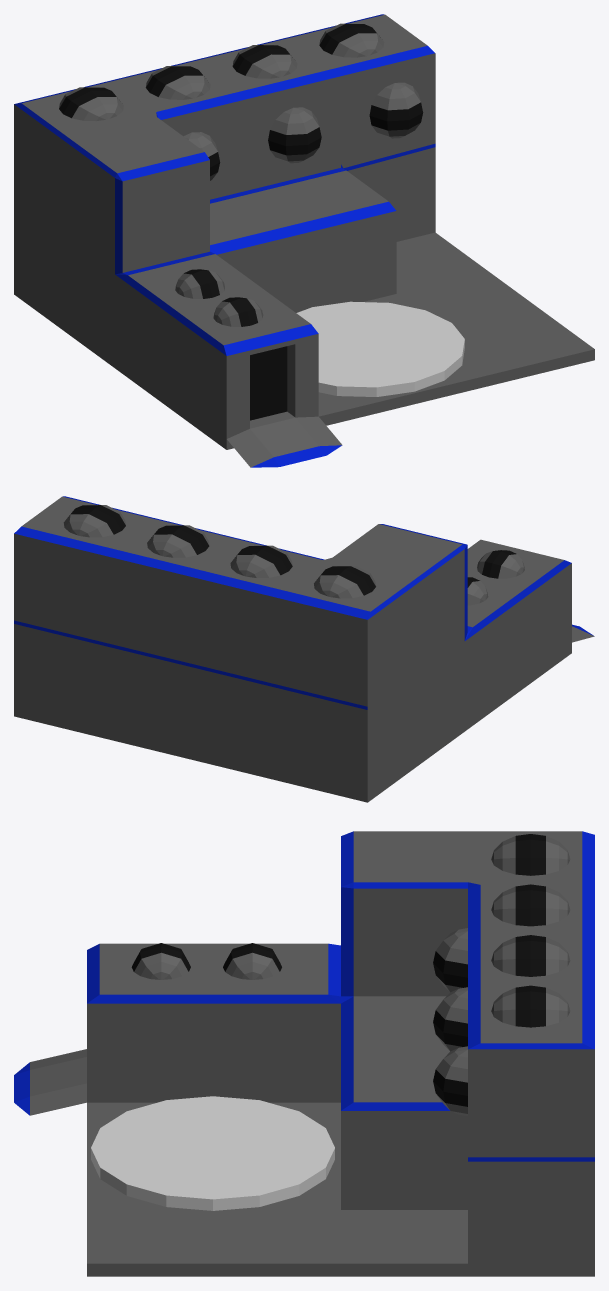
Rendered from usine_militaire.fbx.
The picture shows the model from 3 angles, top to bottom: view 1: azimuth 30°, elevation 25°; view 2: azimuth 150°, elevation 25°; view 3: azimuth 270°, elevation 25°; orthographic projection. The views are drawn at different scales.
Visible parts, largest first — view 1: Cube; view 2: Cube; view 3: Cube.
Boxes of the visible parts, x1=… form: Cube: x1=14, y1=14, x2=594, y2=467; Cube: x1=14, y1=496, x2=594, y2=802; Cube: x1=14, y1=831, x2=594, y2=1276.
Bounding box in the file's own units: 800 × 438 × 915.
